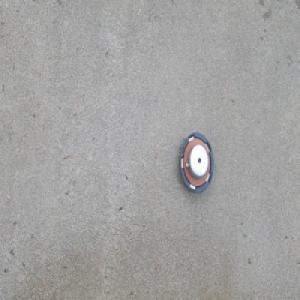FuelCap: (177, 130, 214, 195)
